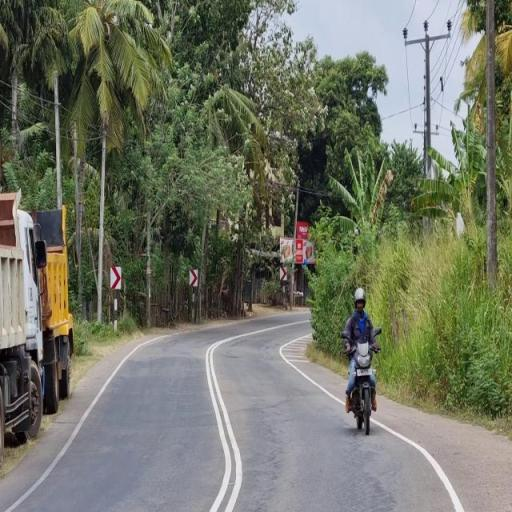double_white_line: (205, 333, 244, 512)
